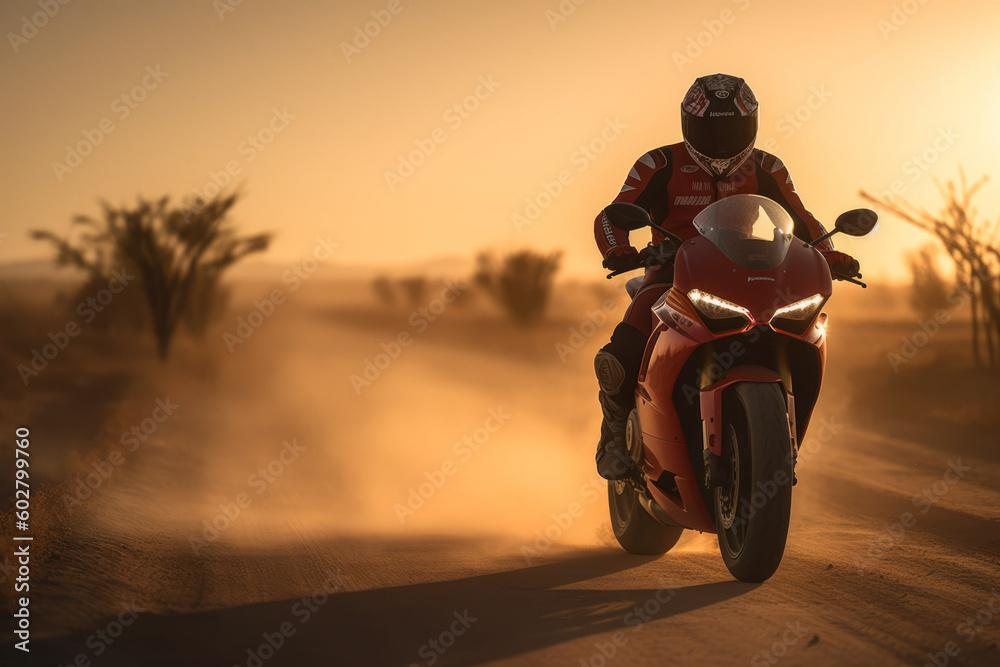helmet: (680, 72, 759, 181)
